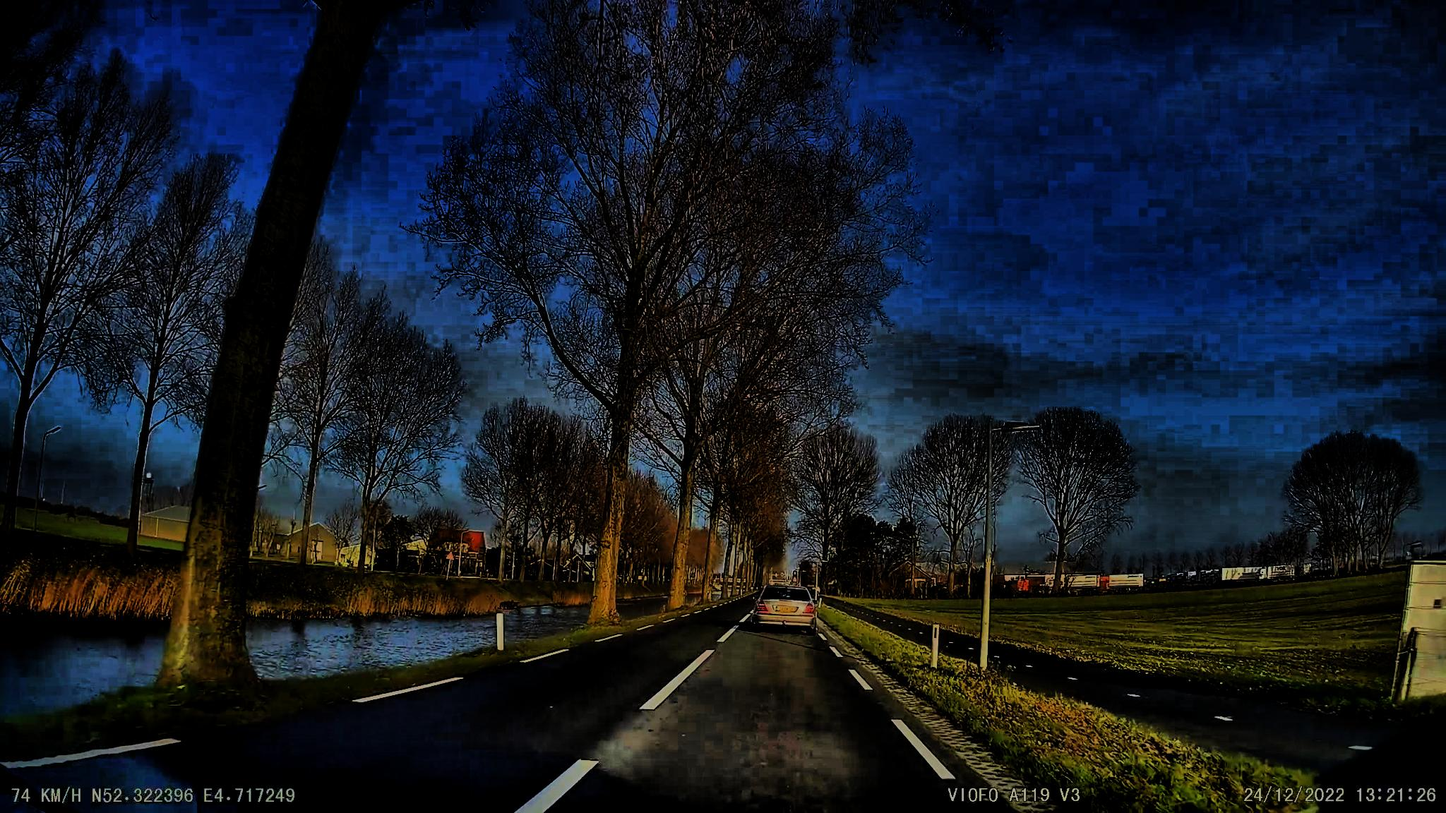Roads: (0, 607, 1059, 813)
